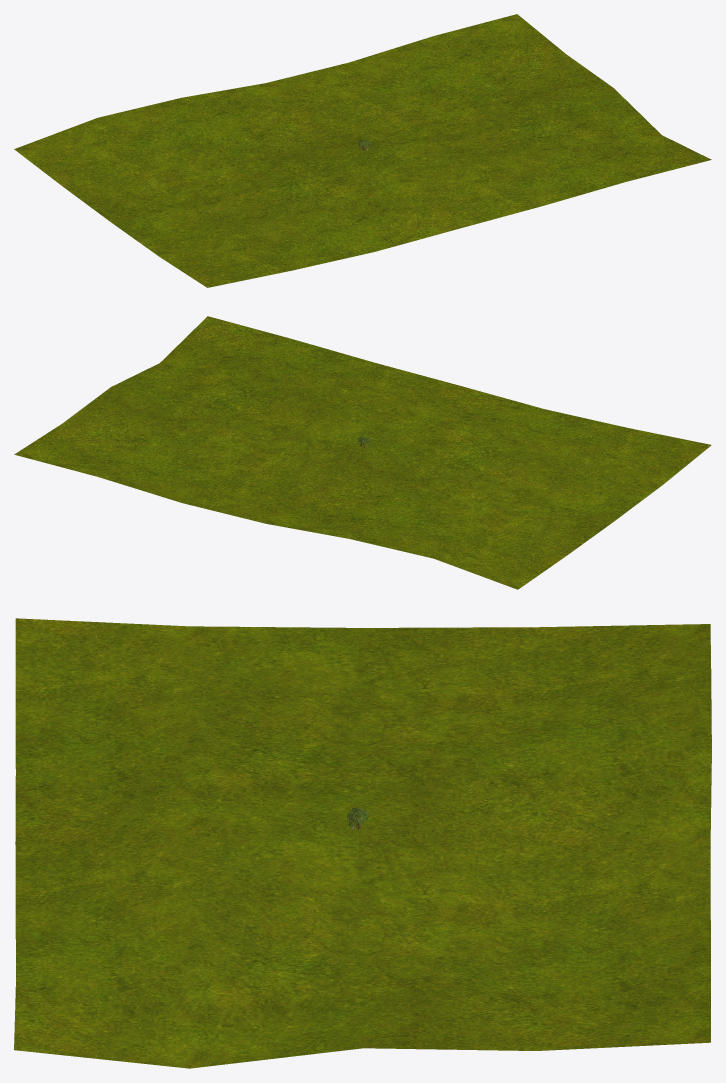
File: bigscene.obj
The picture shows the model from 3 angles, top to bottom: view 1: azimuth 30°, elevation 25°; view 2: azimuth 150°, elevation 25°; view 3: azimuth 270°, elevation 25°; orthographic projection. The views are drawn at different scales.
Visible parts, largest first — view 1: grass_ground; view 2: grass_ground; view 3: grass_ground.
Boxes of the visible parts, bbox=[...] form: grass_ground: bbox=[14, 14, 711, 287]; grass_ground: bbox=[14, 316, 711, 589]; grass_ground: bbox=[14, 618, 711, 1068].
Bounding box in the file's own units: 168 × 6.92 × 112.
